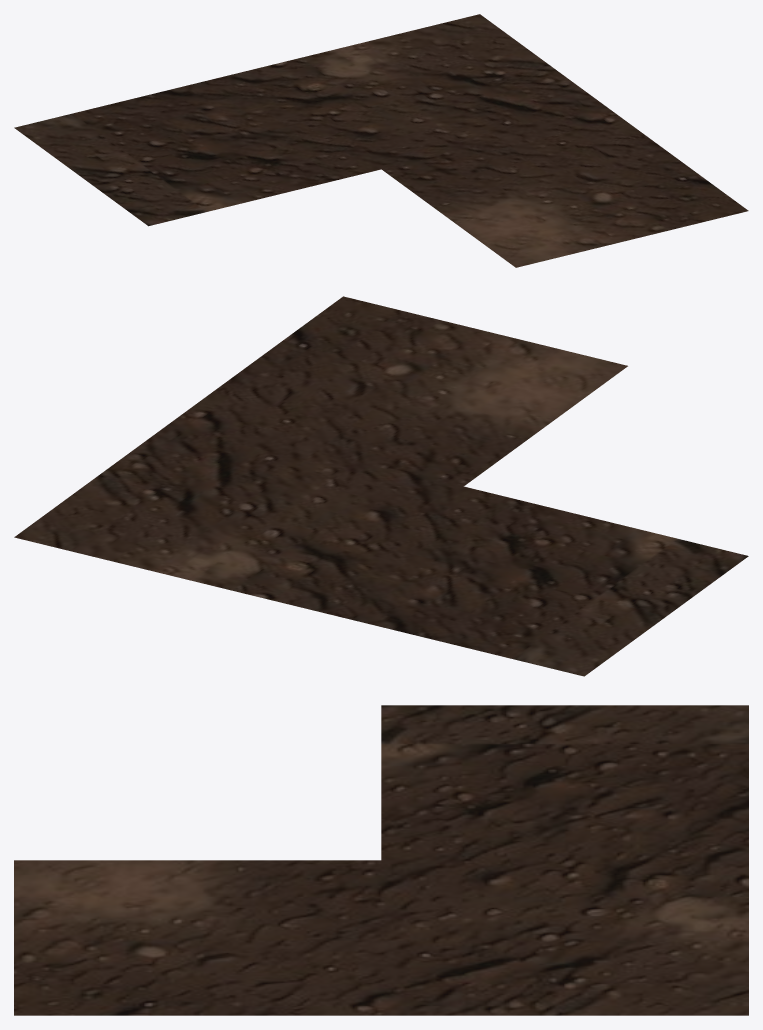
The model's file is floor_-1_0.glb.
3 views of the same model, one above another, from view 1: azimuth 30°, elevation 25°; view 2: azimuth 150°, elevation 25°; view 3: azimuth 270°, elevation 25° (orthographic). The views are drawn at different scales.
Parts seen in each view (by area): view 1: floor_-1_0; view 2: floor_-1_0; view 3: floor_-1_0.
Part boxes in pixels (x1,y1,x2,y2): floor_-1_0: (14, 14, 748, 267); floor_-1_0: (14, 296, 748, 676); floor_-1_0: (14, 705, 748, 1015).
Bounding box in the file's own units: 8 × 0 × 8.
1 material, 1 textured.
